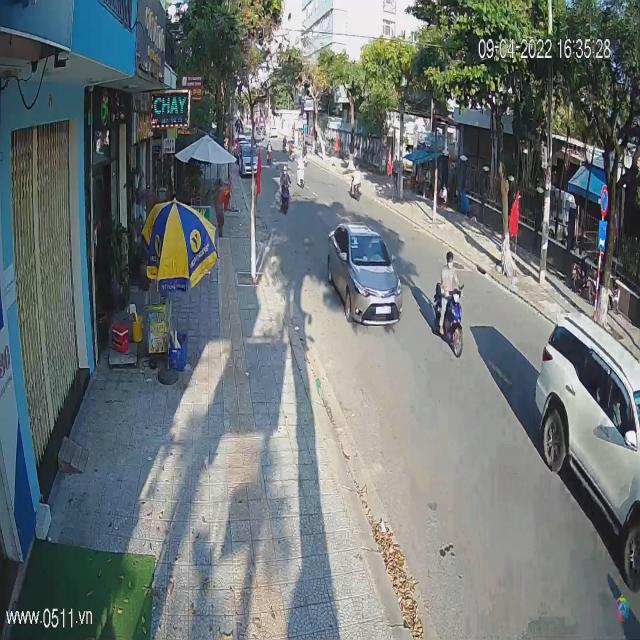car: (327, 222, 404, 331)
motorcycle: (431, 277, 467, 362), (278, 180, 292, 216)
